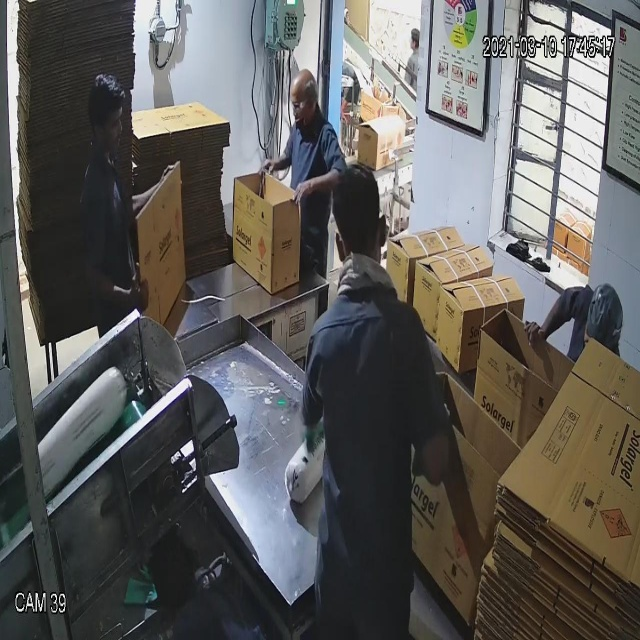Sin_guantes: (81, 242, 161, 318), (522, 278, 579, 357), (246, 140, 305, 185), (285, 167, 348, 205)
